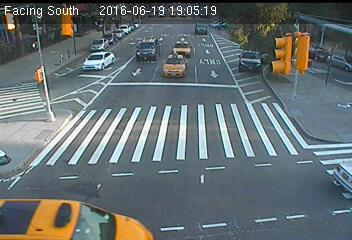neg: (331, 161, 351, 187), (59, 42, 75, 63), (336, 36, 348, 53)
